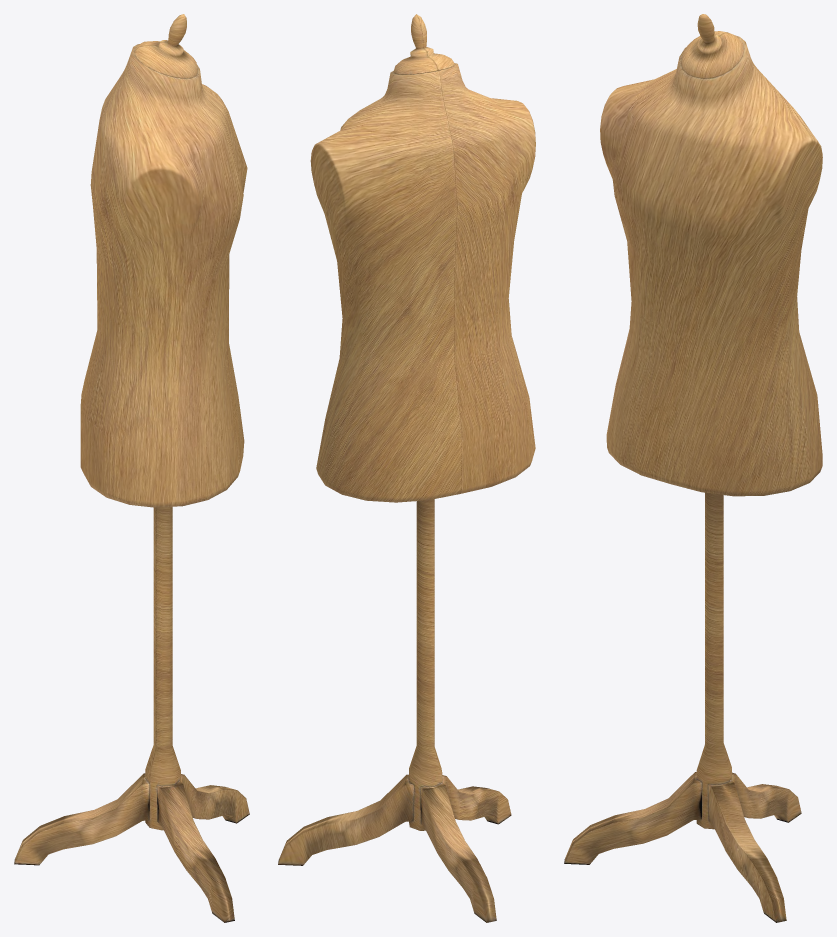
The model's file is Manocanh (1.5, 0.9, 0.3).glb.
3 renders of one model, left to right at view 1: azimuth 30°, elevation 25°; view 2: azimuth 150°, elevation 25°; view 3: azimuth 270°, elevation 25°, orthographic.
Parts seen in each view (by area): view 1: Dress.010; view 2: Dress.010; view 3: Dress.010.
Part boxes in pixels (box(x1,y1,x2,y2)): Dress.010: box(14, 14, 249, 922); Dress.010: box(278, 14, 535, 922); Dress.010: box(564, 14, 822, 922).
Size of the model in its own units: 0.5177 by 1.85 by 0.5049.
1 material, 1 textured.
